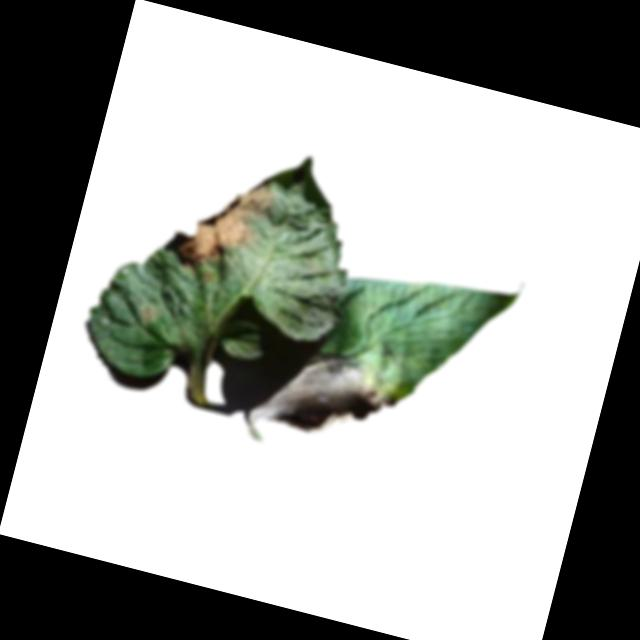Late_blight: (248, 337, 405, 451), (166, 159, 281, 285), (135, 300, 159, 325)
